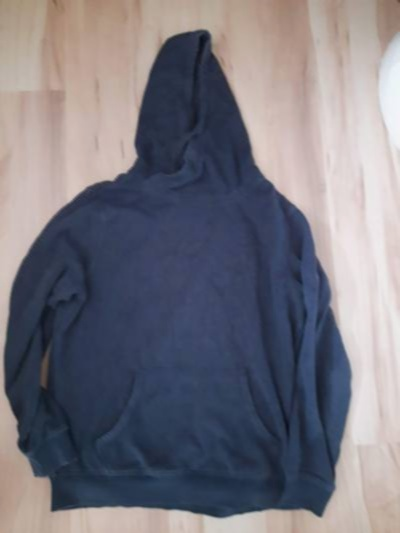Hoodie: (3, 33, 357, 509)
